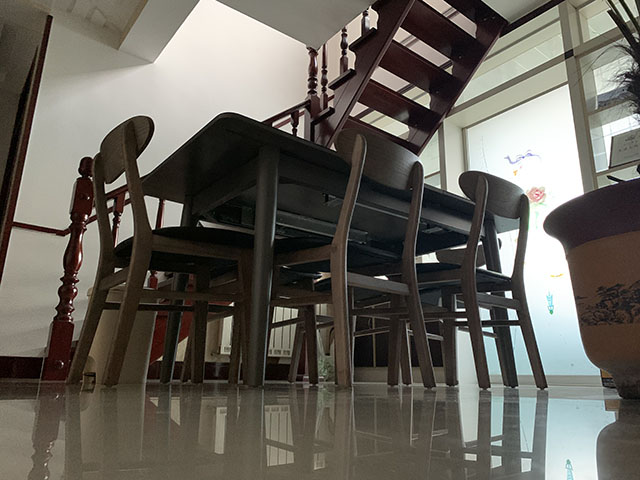stool: (226, 126, 437, 390), (65, 115, 252, 389), (386, 170, 550, 391)
table: (138, 111, 522, 390)
trashcan: (86, 285, 160, 384)
